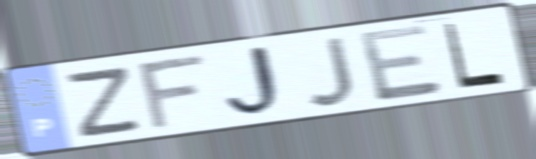E: (355, 21, 447, 105)
F: (134, 51, 210, 134)
J: (222, 42, 292, 122), (303, 33, 359, 110)
L: (441, 20, 508, 91)
Z: (65, 63, 145, 141)
